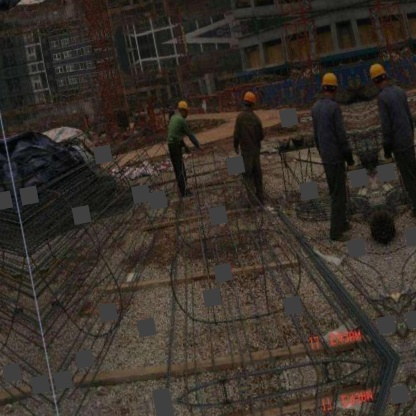yellow: (316, 68, 339, 92), (174, 96, 191, 117), (241, 88, 257, 106)
